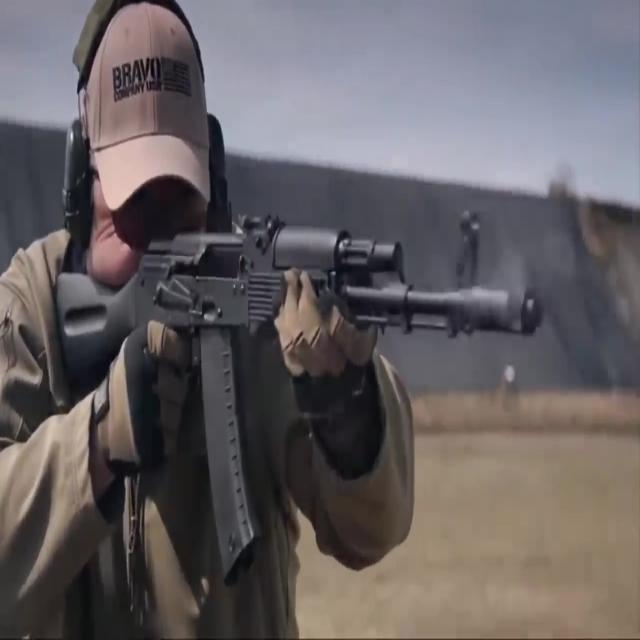Weapon: (48, 221, 562, 563)
